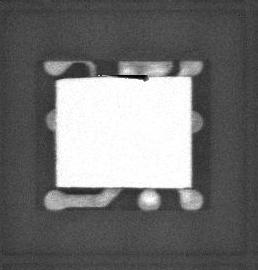DIE_BROKEN: (107, 71, 151, 83)
